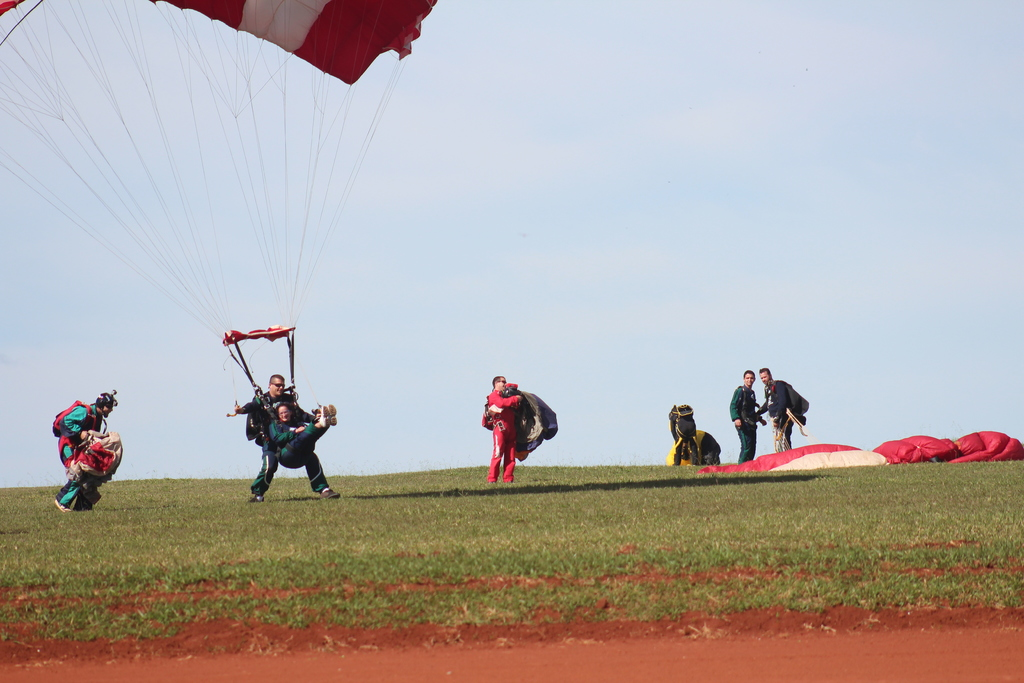Person: (233, 373, 343, 500), (53, 393, 118, 513), (754, 366, 809, 451), (267, 405, 335, 468), (487, 375, 524, 483), (729, 371, 765, 464)
